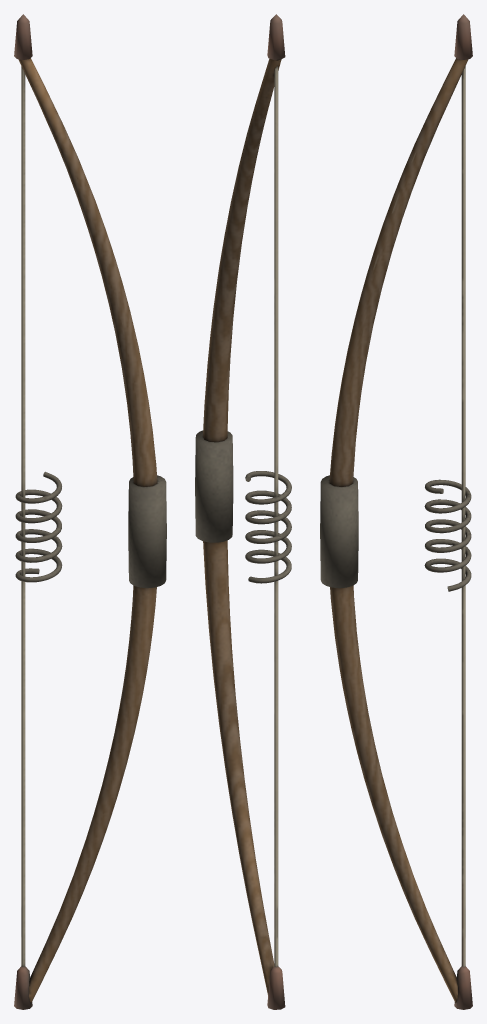
Rendered from arma_arco_longo_enferrujada.glb.
3 views of the same model, side by side, from view 1: azimuth 90°, elevation 25°; view 2: azimuth 210°, elevation 25°; view 3: azimuth 270°, elevation 25° (orthographic).
Parts seen in each view (by area): view 1: arma_arco_longo_enferrujada; view 2: arma_arco_longo_enferrujada; view 3: arma_arco_longo_enferrujada.
Part boxes in pixels (left/top/right/bottom): arma_arco_longo_enferrujada: left=14, top=14, right=166, bottom=1009; arma_arco_longo_enferrujada: left=195, top=14, right=291, bottom=1009; arma_arco_longo_enferrujada: left=320, top=14, right=472, bottom=1009.
Bounding box in the file's own units: 0.0606 × 1.41 × 0.197.
Materials: 1 (1 with a texture image).
